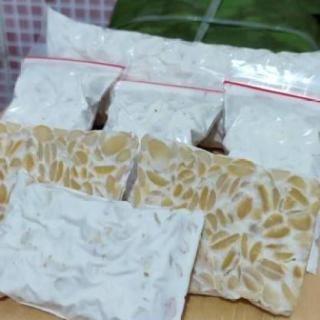Tempe: (1, 170, 206, 320)
